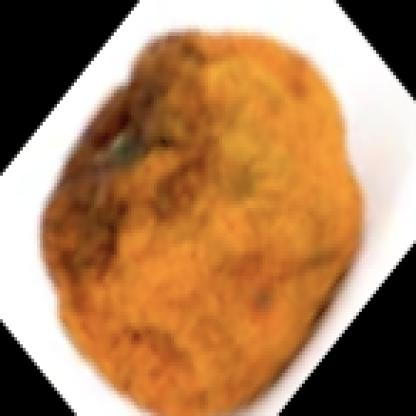rotten: (39, 32, 364, 416)
